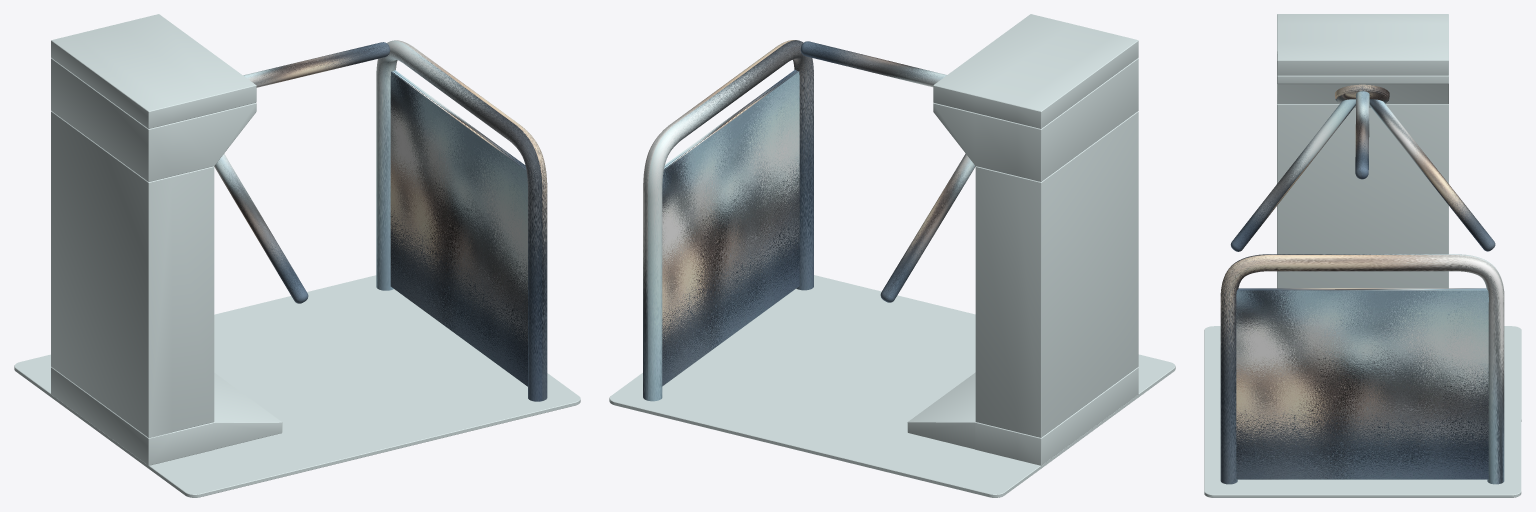
File: torniquete.obj
The picture shows the model from 3 angles, left to right: view 1: azimuth 30°, elevation 25°; view 2: azimuth 150°, elevation 25°; view 3: azimuth 270°, elevation 25°; orthographic projection. The views are drawn at different scales.
Parts seen in each view (by area): view 1: torniquete, Box001; view 2: torniquete, Box001; view 3: torniquete, Box001.
Boxes of the visible parts, x1,y1,x2,y2 form: torniquete: (14,14,580,497); Box001: (390,70,527,386); torniquete: (609,14,1175,497); Box001: (662,69,799,386); torniquete: (1204,14,1521,497); Box001: (1236,288,1488,479).
Bounding box in the file's own units: 111288 × 96573 × 88109.
Materials: 1 (1 with a texture image).
